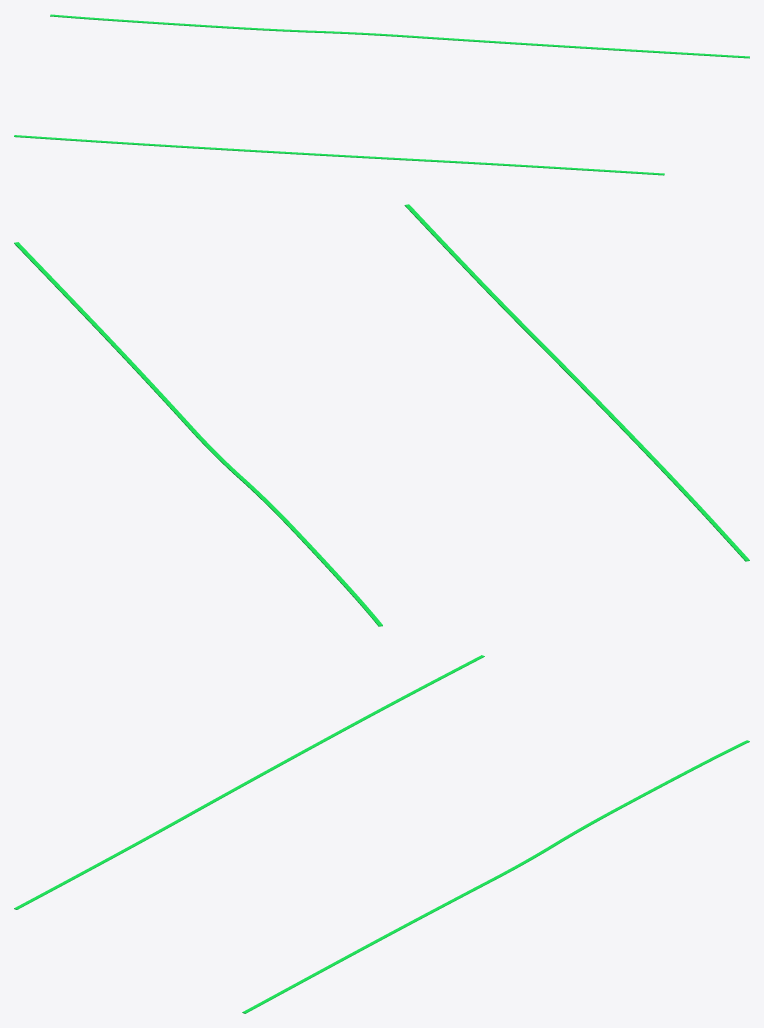
File: BakuDrs.glb
The picture shows the model from 3 angles, top to bottom: view 1: azimuth 30°, elevation 25°; view 2: azimuth 150°, elevation 25°; view 3: azimuth 270°, elevation 25°; orthographic projection. The views are drawn at different scales.
Visible parts, largest first — view 1: DrsStrip_2, DrsStrip_1; view 2: DrsStrip_2, DrsStrip_1; view 3: DrsStrip_2, DrsStrip_1.
Part boxes in pixels (bbox=[...]): DrsStrip_2: bbox=[50, 14, 749, 58]; DrsStrip_1: bbox=[14, 135, 664, 175]; DrsStrip_2: bbox=[14, 242, 382, 626]; DrsStrip_1: bbox=[404, 204, 749, 561]; DrsStrip_2: bbox=[242, 740, 749, 1013]; DrsStrip_1: bbox=[14, 655, 484, 909].
Bounding box in the file's own units: 6.52 × 0.006 × 5.66.
